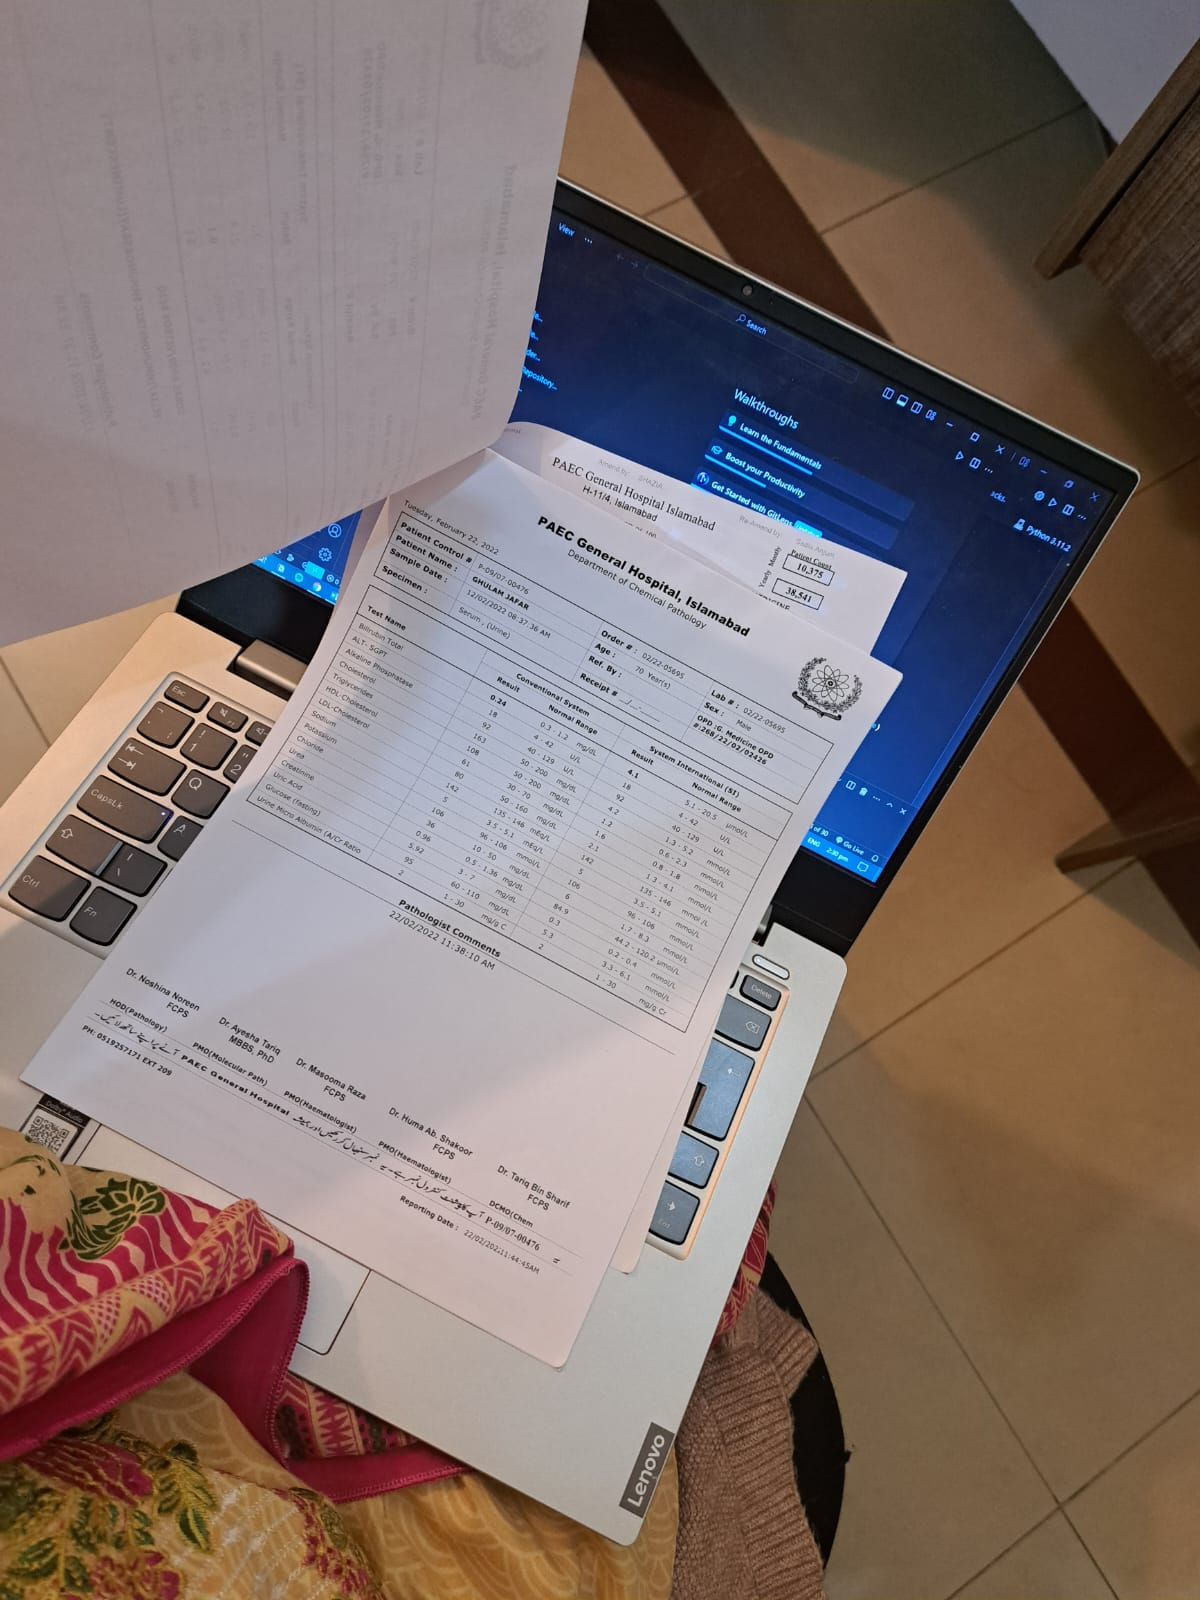report: (253, 583, 805, 1039)
